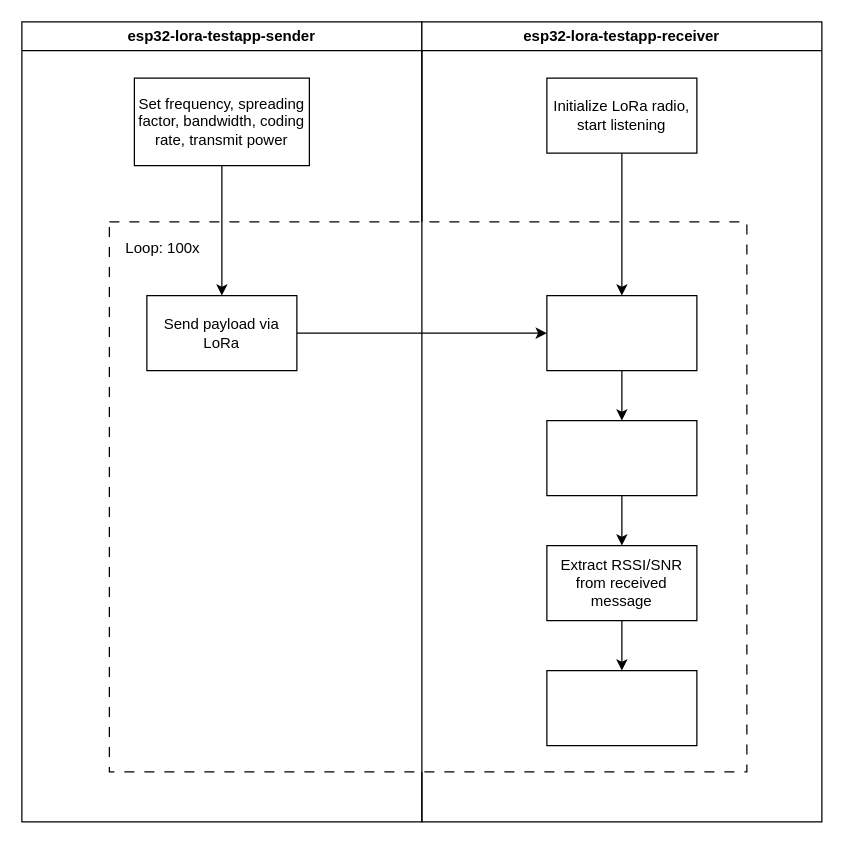
Some shapes in this 844 by 844 pixel diagram are drawn without their labels. Each missing label, with the centre of its shape:
Persist metrics in .CSV file: [621,707]
Receive packet: [621,332]
Validate payload: [621,457]
